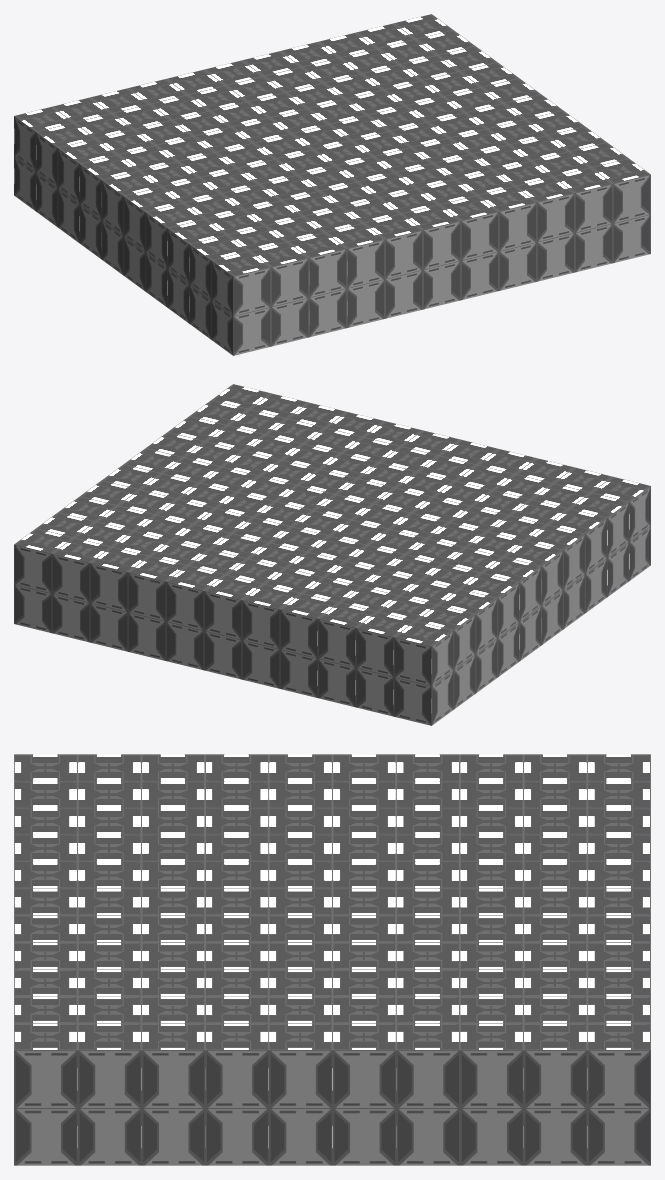
The model's file is GrowRoom.fbx.
The picture shows the model from 3 angles, top to bottom: view 1: azimuth 30°, elevation 25°; view 2: azimuth 150°, elevation 25°; view 3: azimuth 270°, elevation 25°; orthographic projection. The views are drawn at different scales.
Parts seen in each view (by area): view 1: !Room; view 2: !Room; view 3: !Room.
Part boxes in pixels (box(x1,y1,x2,y2)): !Room: box(14, 14, 650, 355); !Room: box(14, 384, 650, 725); !Room: box(14, 754, 650, 1165).
Size of the model in its own units: 2200 by 400 by 2000.
